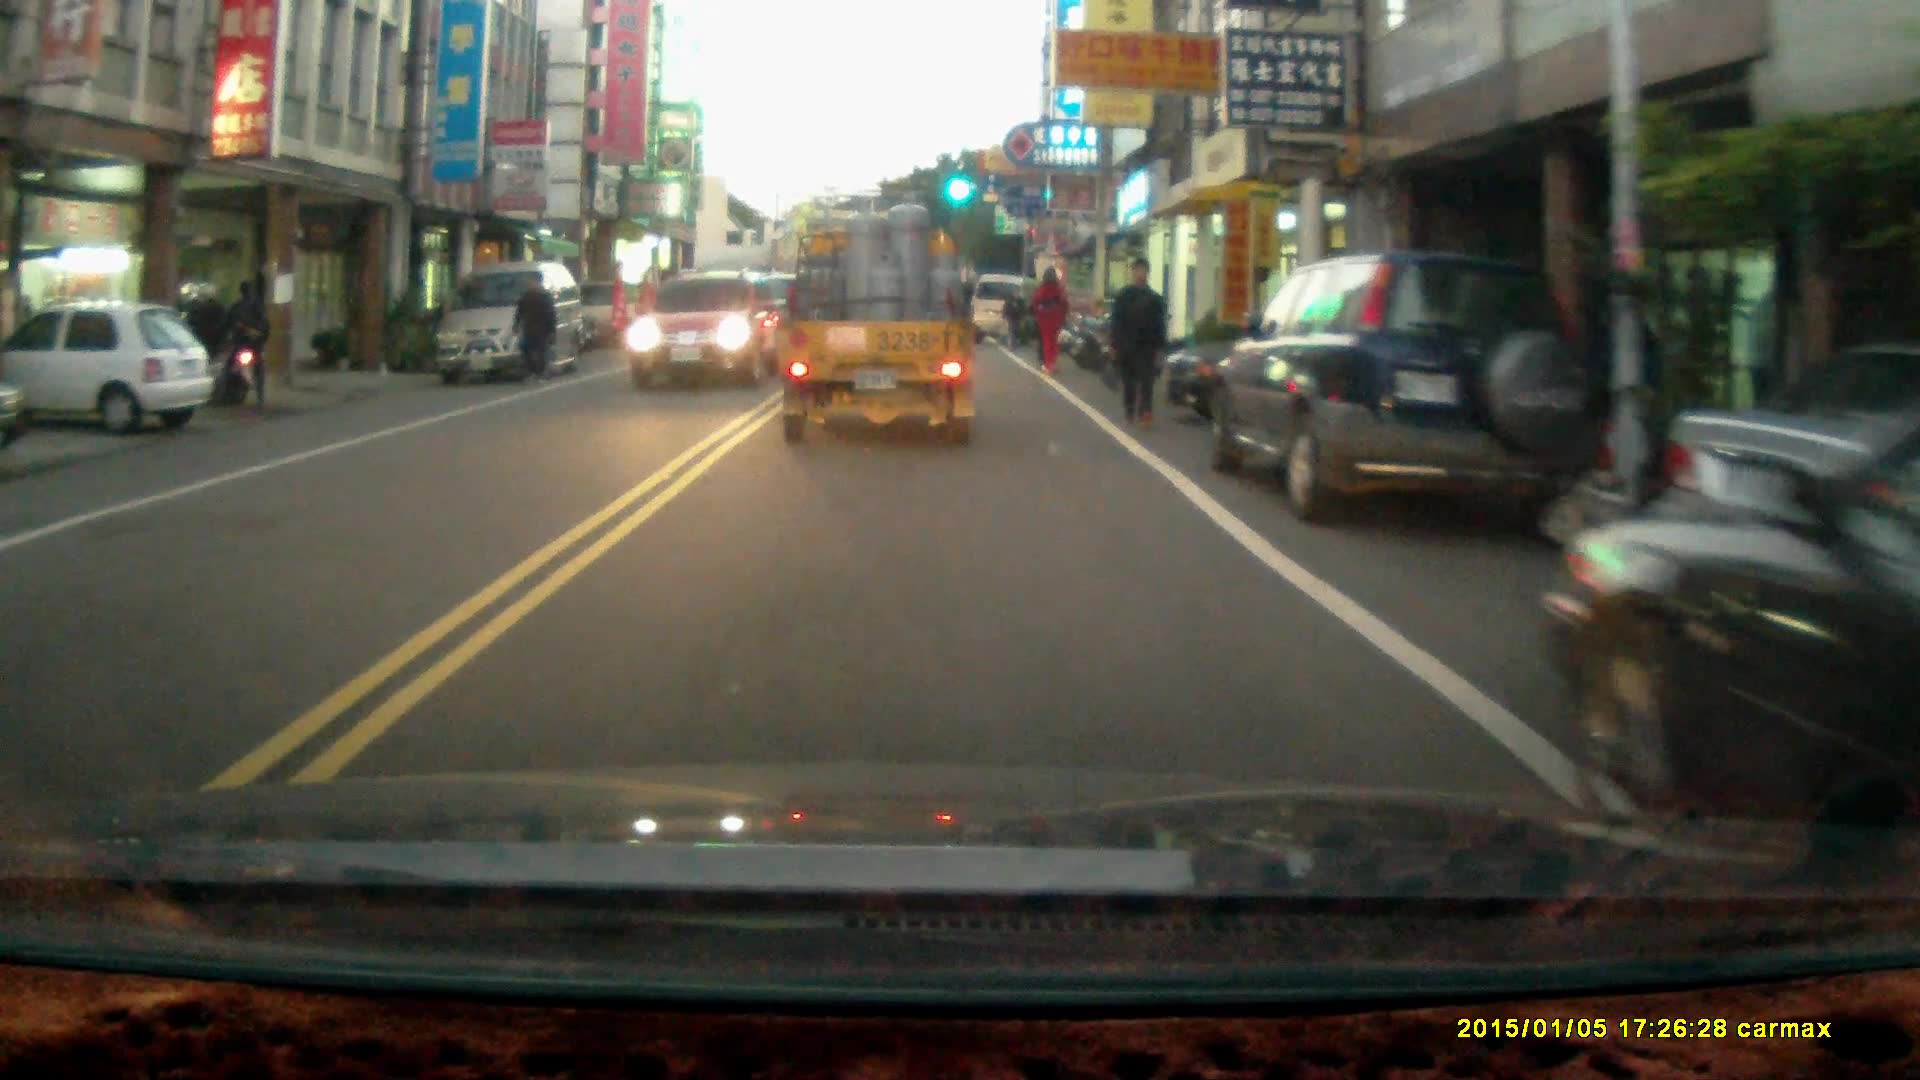pedestrian: (1106, 252, 1171, 428), (226, 272, 273, 401), (511, 271, 557, 388), (1029, 263, 1067, 373), (998, 284, 1028, 351)
rider: (163, 278, 250, 408)
vehicle: (1542, 413, 1920, 846), (1211, 249, 1602, 527), (773, 189, 981, 451), (1, 301, 223, 441), (433, 260, 588, 380), (626, 274, 771, 389)
